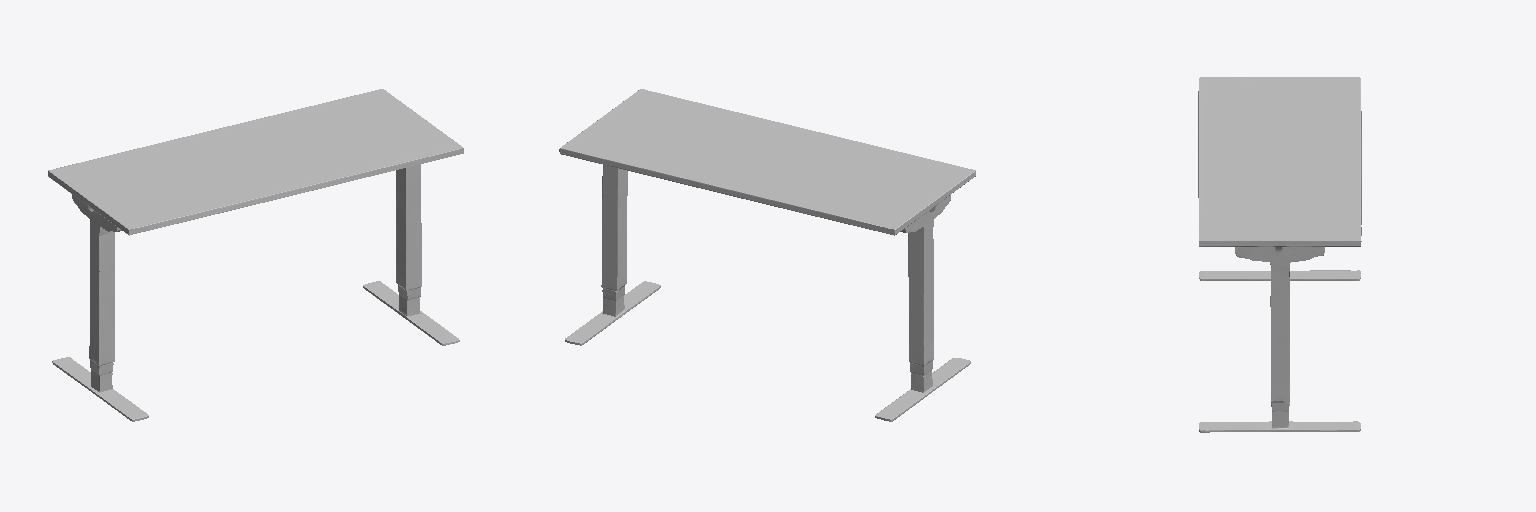
Rendered from WHITE TABLE TEXTURES ProjectRoom 2 AI.obj.
3 renders of one model, left to right at view 1: azimuth 30°, elevation 25°; view 2: azimuth 150°, elevation 25°; view 3: azimuth 270°, elevation 25°, orthographic.
Parts seen in each view (by area): view 1: geometry_0; view 2: geometry_0; view 3: geometry_0.
Part boxes in pixels (x1,y1,x2,y2): geometry_0: (48,89,463,421); geometry_0: (559,89,975,421); geometry_0: (1198,77,1361,432).
Bounding box in the file's own units: 1 × 0.5524 × 0.4223.